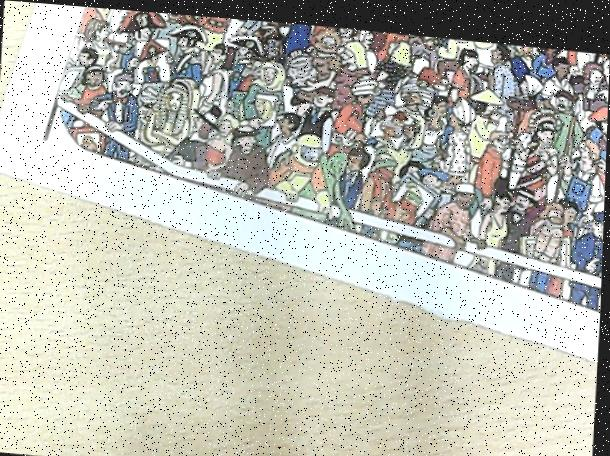waldo: (256, 23, 287, 59)
